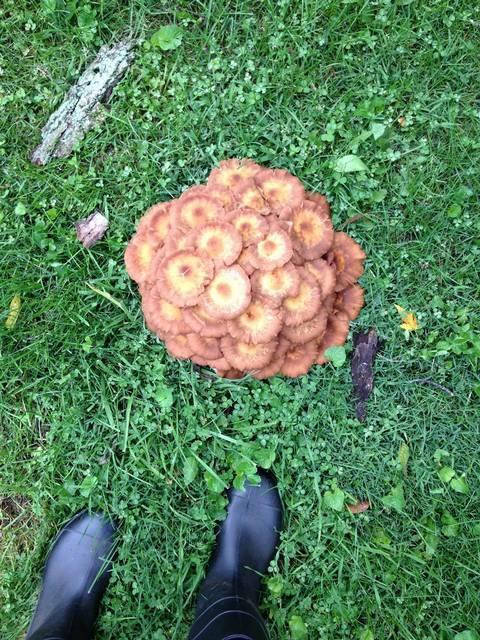Edible Mushroom: (123, 156, 366, 380)
